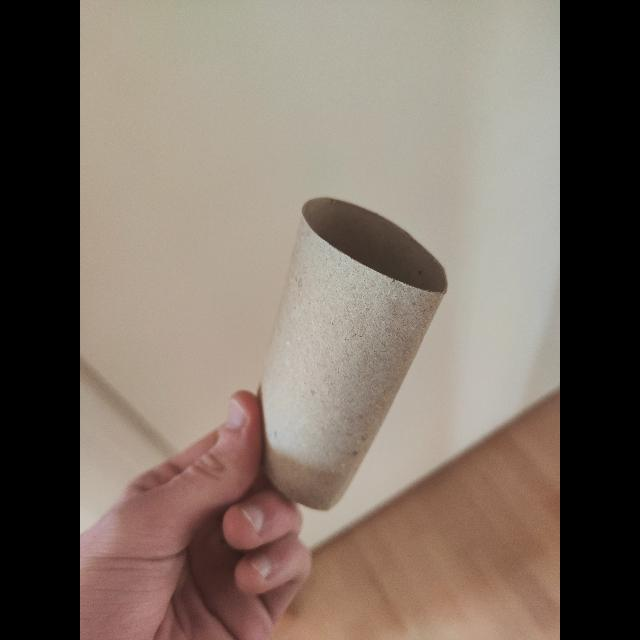Cardboard: (252, 193, 450, 511)
